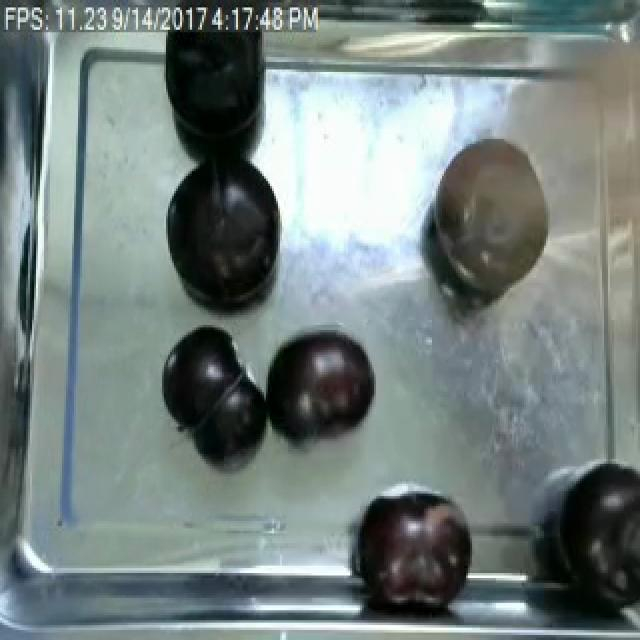Fruit: (158, 132, 290, 315), (426, 132, 556, 302), (348, 486, 478, 623), (152, 315, 262, 464), (550, 454, 640, 623), (258, 325, 380, 444)
